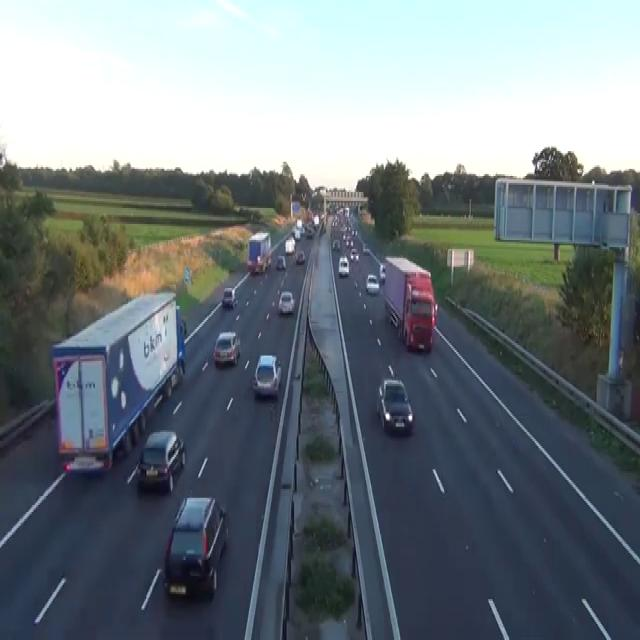Car: (164, 496, 228, 599), (137, 428, 186, 492), (376, 377, 413, 434), (404, 288, 435, 352), (405, 270, 438, 326), (251, 354, 281, 398), (213, 331, 240, 366), (405, 270, 432, 294), (277, 290, 294, 314), (222, 286, 237, 308), (176, 306, 187, 336), (365, 272, 379, 293), (338, 256, 349, 276), (284, 237, 295, 254), (275, 254, 286, 270), (295, 249, 305, 263), (433, 300, 438, 326), (418, 269, 431, 279), (350, 247, 359, 261), (180, 316, 187, 334), (379, 263, 385, 283), (332, 240, 340, 251), (362, 242, 369, 254), (293, 228, 300, 240), (305, 228, 313, 238), (313, 213, 319, 226), (296, 219, 303, 229), (266, 254, 271, 267), (446, 182, 454, 190), (344, 206, 349, 217), (352, 228, 357, 235)
Truck: (50, 290, 186, 474), (382, 254, 437, 352), (247, 229, 271, 274)
